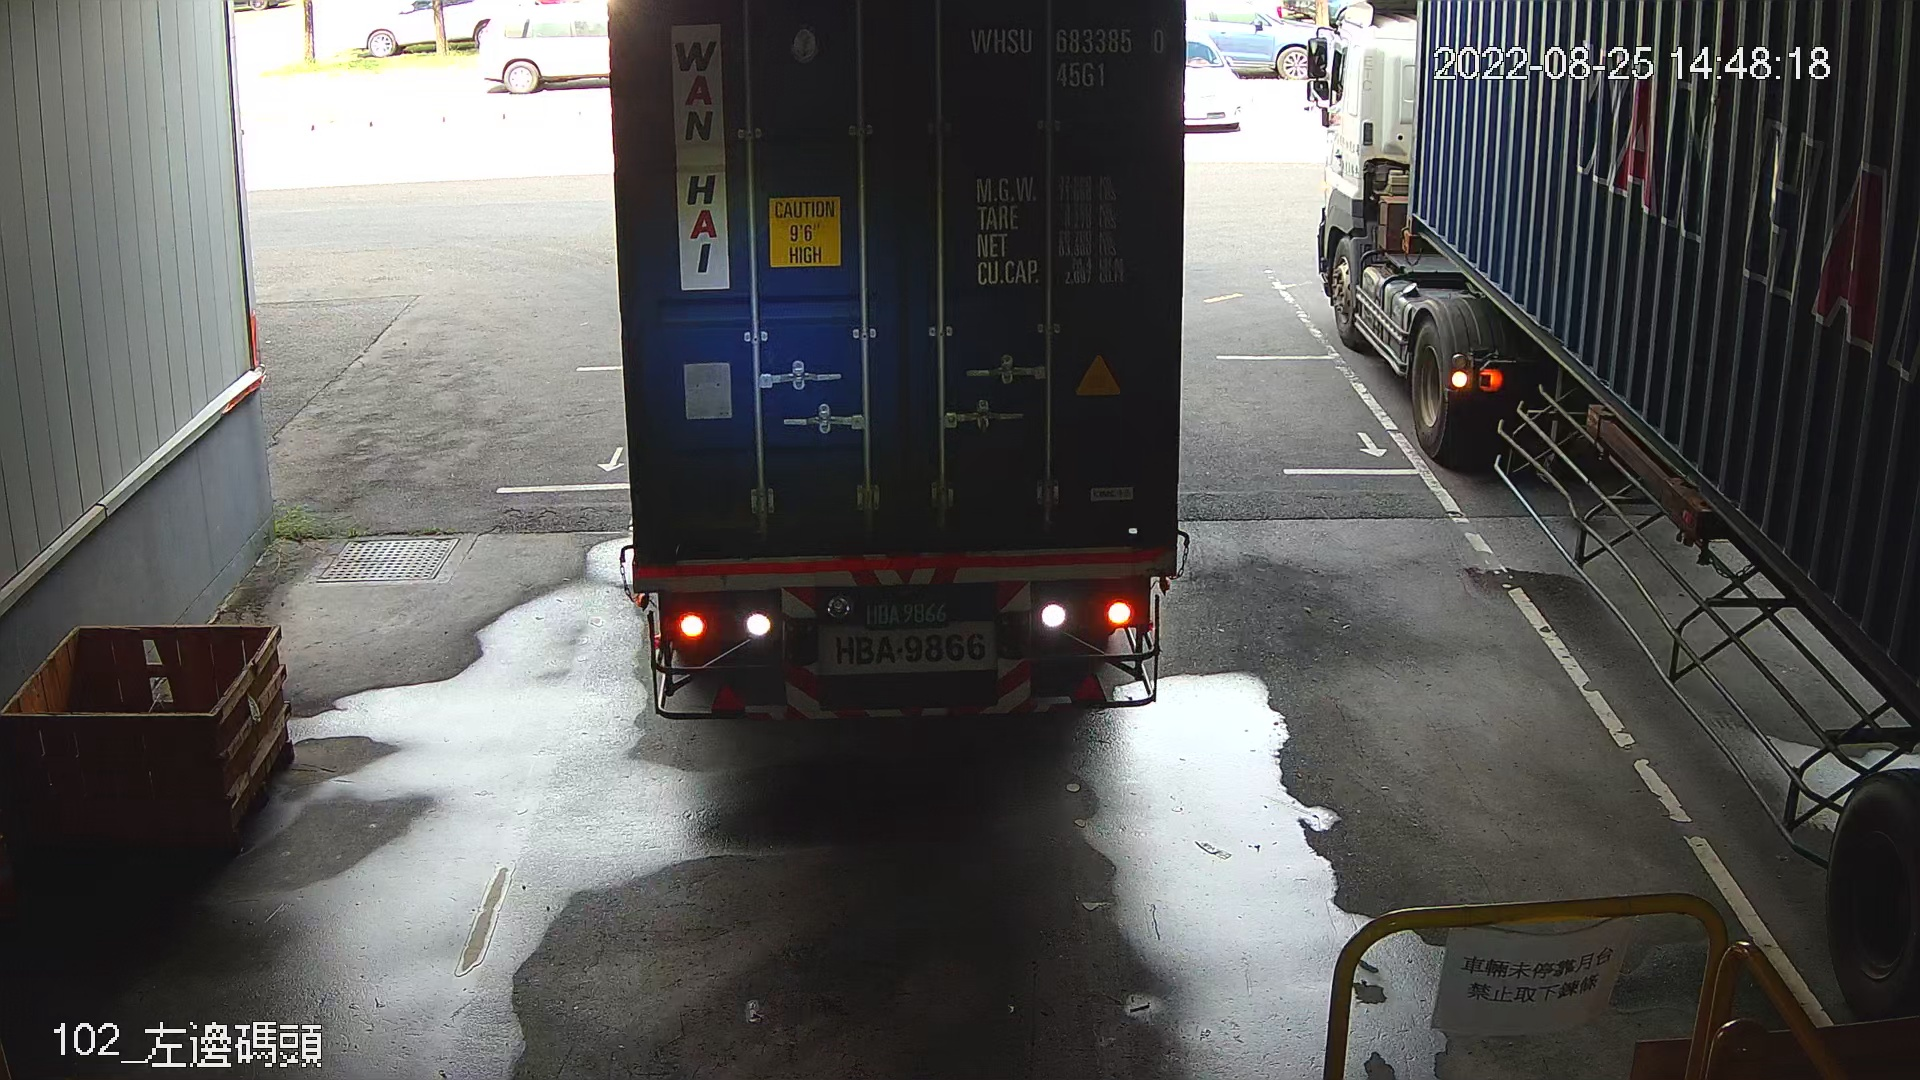container: (963, 13, 1176, 95)
